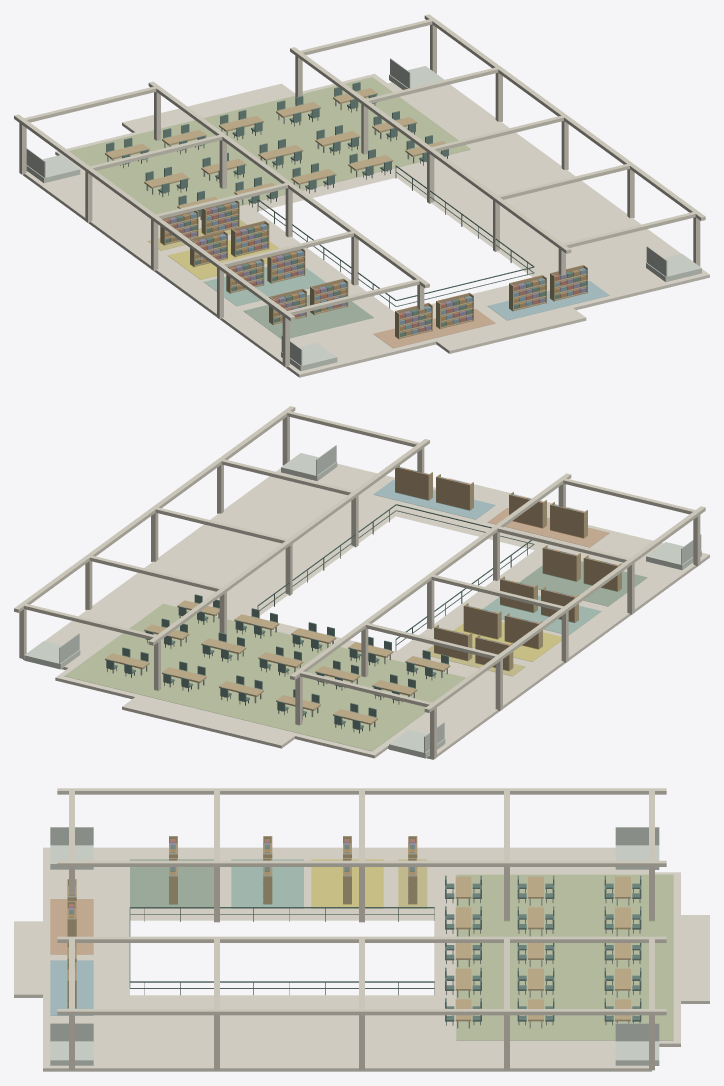
The model's file is 图书馆_5楼_空间剖切.glb.
3 views of the same model, one above another, from view 1: azimuth 30°, elevation 25°; view 2: azimuth 150°, elevation 25°; view 3: azimuth 270°, elevation 25° (orthographic). The views are drawn at different scales.
Parts seen in each view (by area): view 1: guide_outline_floor_slab, guide_function_tint (×6), schematic_beam (×4), side_gallery_beam (×10), corner_service_room (×4); view 2: guide_outline_floor_slab, guide_function_tint (×6), schematic_beam (×4), rack_back (×12), side_gallery_beam (×10), corner_service_room (×4); view 3: guide_outline_floor_slab, guide_function_tint (×7), schematic_beam (×4), corner_service_room (×4), service_partition (×4), atrium_rail_top (×2).
Part boxes in pixels (box(x1,y1,x2,y2)): guide_outline_floor_slab: box(23, 73, 709, 377); guide_function_tint (×6): box(69, 77, 609, 348); schematic_beam (×4): box(14, 14, 705, 321); side_gallery_beam (×10): box(22, 18, 695, 315); corner_service_room (×4): box(26, 66, 701, 370); guide_outline_floor_slab: box(23, 463, 709, 759); guide_function_tint (×6): box(64, 480, 647, 751); schematic_beam (×4): box(14, 406, 705, 712); rack_back (×12): box(395, 467, 617, 670); side_gallery_beam (×10): box(24, 410, 696, 706); corner_service_room (×4): box(24, 453, 701, 758); guide_outline_floor_slab: box(14, 847, 709, 1071); guide_function_tint (×7): box(50, 859, 673, 1040); schematic_beam (×4): box(57, 788, 666, 1015); corner_service_room (×4): box(50, 845, 659, 1065); service_partition (×4): box(50, 827, 659, 1041); atrium_rail_top (×2): box(130, 907, 434, 982).
Bounding box in the file's own units: 36.42 × 4.66 × 48.
